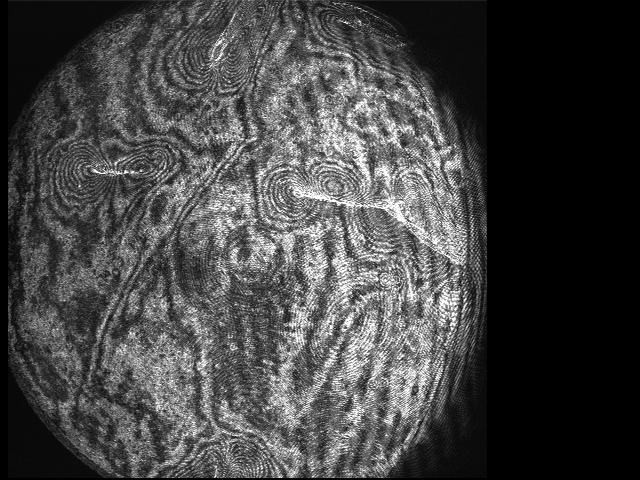plume: (52, 136, 182, 204), (252, 155, 373, 228), (162, 16, 271, 97)
